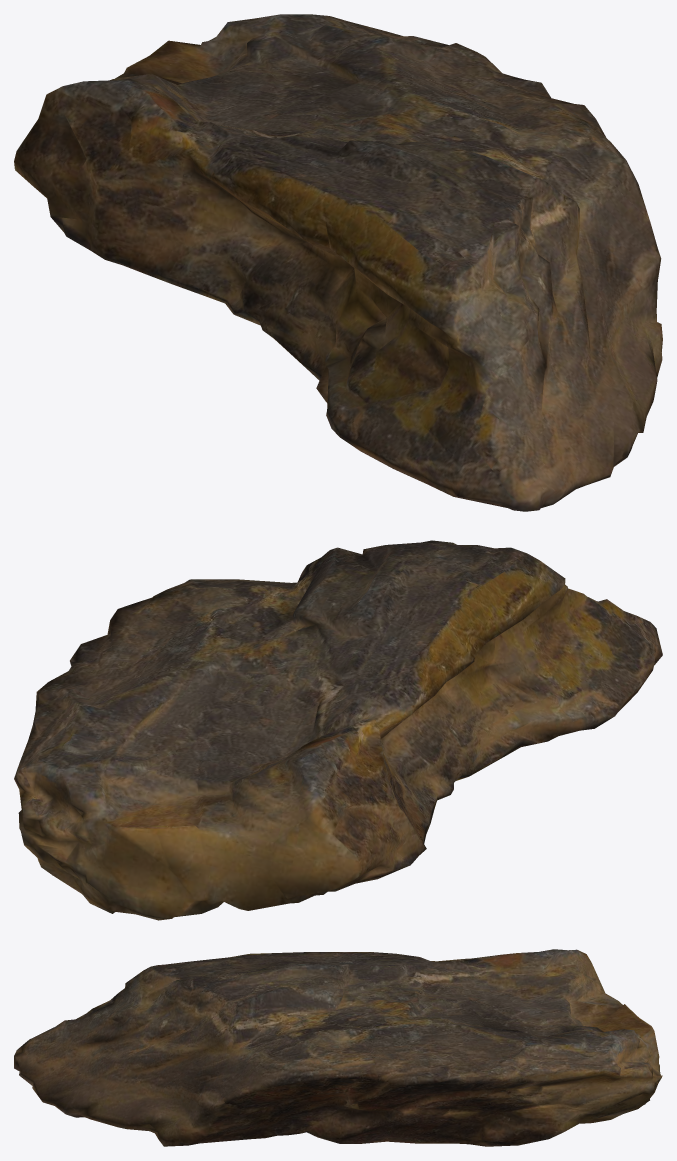
The model's file is rock_09.glb.
The picture shows the model from 3 angles, top to bottom: view 1: azimuth 30°, elevation 25°; view 2: azimuth 150°, elevation 25°; view 3: azimuth 270°, elevation 25°; orthographic projection. The views are drawn at different scales.
Visible parts, largest first — view 1: rock_09_LOD0; view 2: rock_09_LOD0; view 3: rock_09_LOD0.
Boxes of the visible parts, <box> form: rock_09_LOD0: <box>14,14,662,511</box>; rock_09_LOD0: <box>14,540,662,920</box>; rock_09_LOD0: <box>14,949,662,1146</box>.
Size of the model in its own units: 0.0739 by 0.0325 by 0.1446.
1 material, 1 textured.
